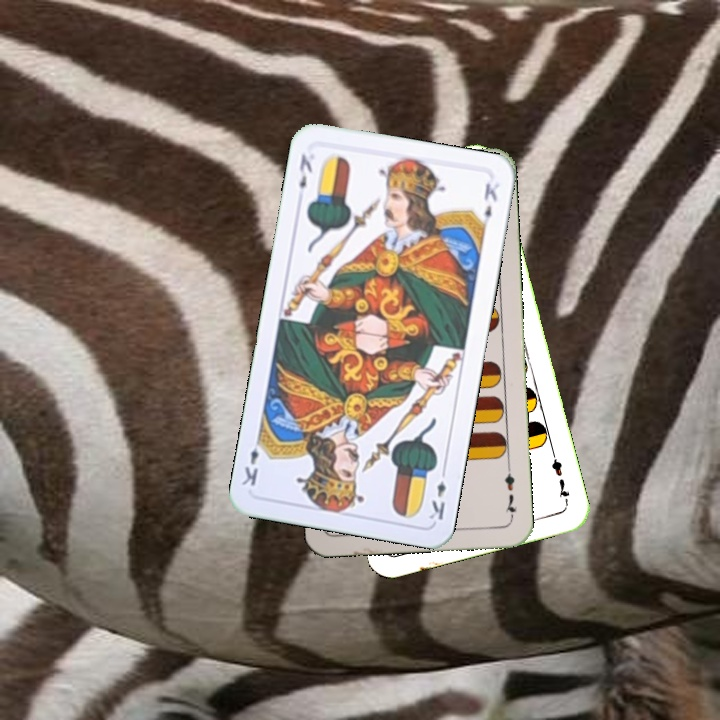E7: (547, 448, 572, 506), (500, 462, 520, 521)
EK: (425, 464, 449, 523), (295, 150, 315, 191)
